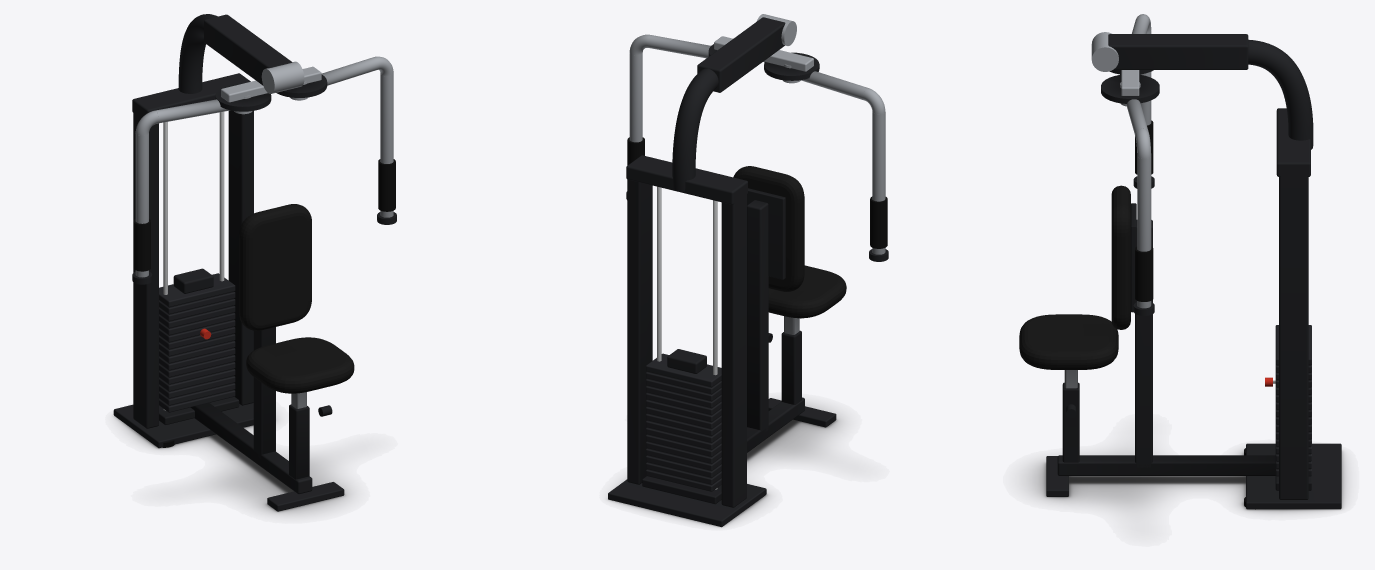
The model's file is pec-fly.glb.
3 renders of one model, left to right at view 1: azimuth 30°, elevation 25°; view 2: azimuth 150°, elevation 25°; view 3: azimuth 270°, elevation 25°, orthographic. The views are drawn at different scales.
Visible parts, largest first — view 1: Encosto, Coluna, Coluna_1, Assento, Sombra_Contacto, Viga_Superior, Calha_Base, Base_Torre, Poste_Encosto, Tubo_Curvo, Travessa_Topo, Poste_Banco (+29 smaller); view 2: Coluna, Coluna_1, Poste_Encosto, Encosto, Base_Torre, Viga_Superior, Tubo_Curvo, Sombra_Contacto, Travessa_Topo, Assento, Suporte_Encosto, Poste_Banco (+29 smaller); view 3: Coluna_1, Assento, Sombra_Contacto, Viga_Superior, Calha_Base, Base_Torre, Tubo_Curvo, Poste_Encosto, Encosto, Tubo_Vertical_1, Travessa_Topo, Poste_Banco (+7 smaller).
Boxes of the visible parts, x1=… form: Encosto: x1=239, y1=204, x2=311, y2=330; Coluna: x1=133, y1=99, x2=158, y2=428; Coluna_1: x1=228, y1=74, x2=253, y2=405; Assento: x1=246, y1=337, x2=354, y2=393; Sombra_Contacto: x1=113, y1=416, x2=348, y2=513; Viga_Superior: x1=204, y1=14, x2=292, y2=85; Calha_Base: x1=190, y1=402, x2=312, y2=493; Base_Torre: x1=113, y1=403, x2=253, y2=448; Poste_Encosto: x1=253, y1=327, x2=275, y2=458; Tubo_Curvo: x1=178, y1=14, x2=217, y2=93; Travessa_Topo: x1=132, y1=73, x2=250, y2=117; Poste_Banco: x1=289, y1=404, x2=309, y2=479; Coluna: x1=721, y1=179, x2=746, y2=507; Coluna_1: x1=627, y1=156, x2=652, y2=484; Poste_Encosto: x1=747, y1=200, x2=768, y2=431; Encosto: x1=733, y1=166, x2=804, y2=291; Base_Torre: x1=608, y1=479, x2=766, y2=527; Viga_Superior: x1=697, y1=17, x2=785, y2=92; Tubo_Curvo: x1=672, y1=68, x2=718, y2=191; Sombra_Contacto: x1=607, y1=405, x2=840, y2=527; Travessa_Topo: x1=626, y1=155, x2=747, y2=204; Assento: x1=768, y1=265, x2=846, y2=318; Suporte_Encosto: x1=747, y1=188, x2=785, y2=279; Poste_Banco: x1=781, y1=330, x2=801, y2=404; Coluna_1: x1=1279, y1=157, x2=1308, y2=499; Assento: x1=1019, y1=314, x2=1118, y2=369; Sombra_Contacto: x1=1029, y1=450, x2=1345, y2=512; Viga_Superior: x1=1108, y1=34, x2=1248, y2=69; Calha_Base: x1=1057, y1=455, x2=1275, y2=475; Base_Torre: x1=1246, y1=443, x2=1341, y2=509; Tubo_Curvo: x1=1248, y1=39, x2=1313, y2=149; Poste_Encosto: x1=1135, y1=220, x2=1152, y2=467; Encosto: x1=1111, y1=185, x2=1130, y2=329; Tubo_Vertical_1: x1=1137, y1=157, x2=1151, y2=308; Travessa_Topo: x1=1276, y1=108, x2=1310, y2=176; Poste_Banco: x1=1062, y1=382, x2=1079, y2=462.
Bounding box in the file's own units: 1.59 × 2.14 × 1.59.
8 materials, 1 textured.
